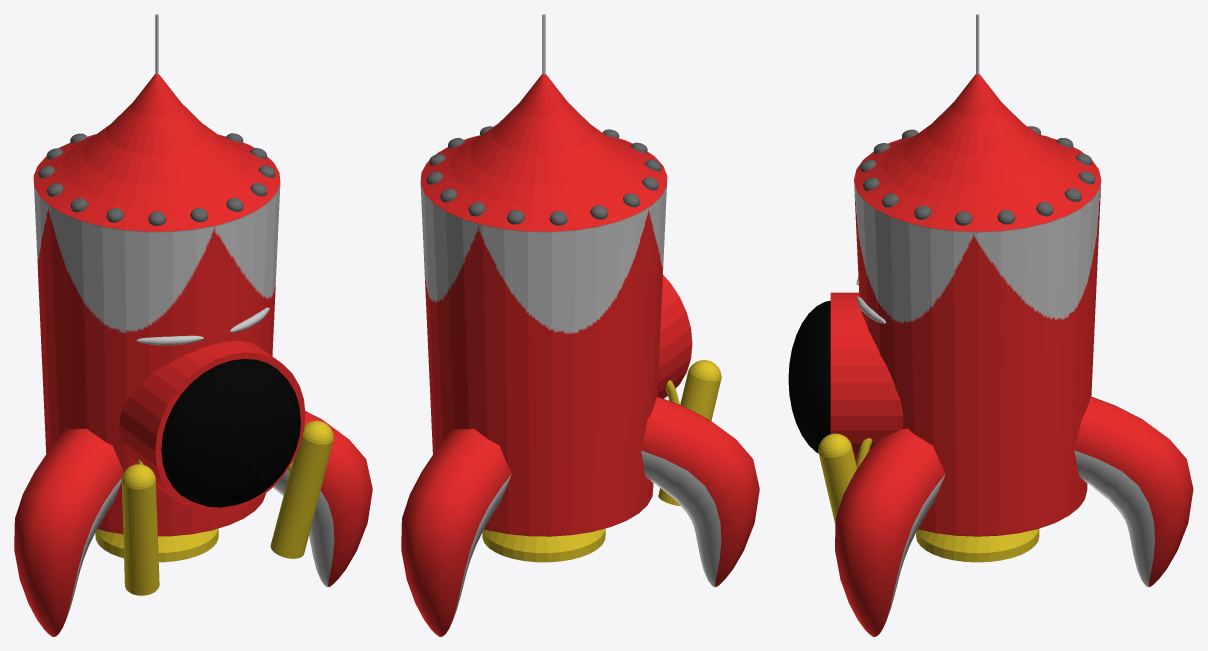
File: Rocket.gltf
3 views of the same model, side by side, from view 1: azimuth 30°, elevation 25°; view 2: azimuth 150°, elevation 25°; view 3: azimuth 270°, elevation 25° (orthographic).
Visible parts, largest first — view 1: Main; view 2: Main; view 3: Main.
Part boxes in pixels (left/top/right/bottom): Main: left=14, top=14, right=372, bottom=636; Main: left=401, top=14, right=759, bottom=636; Main: left=788, top=14, right=1193, bottom=636.
Bounding box in the file's own units: 2.84 × 4.65 × 3.03.
